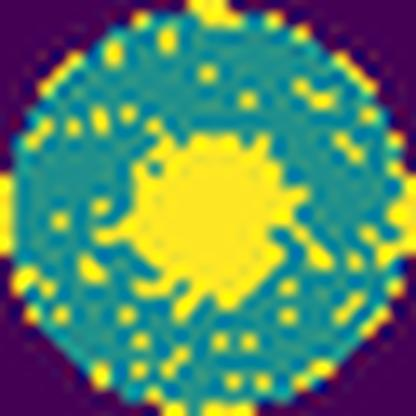Center: (101, 117, 311, 319)
